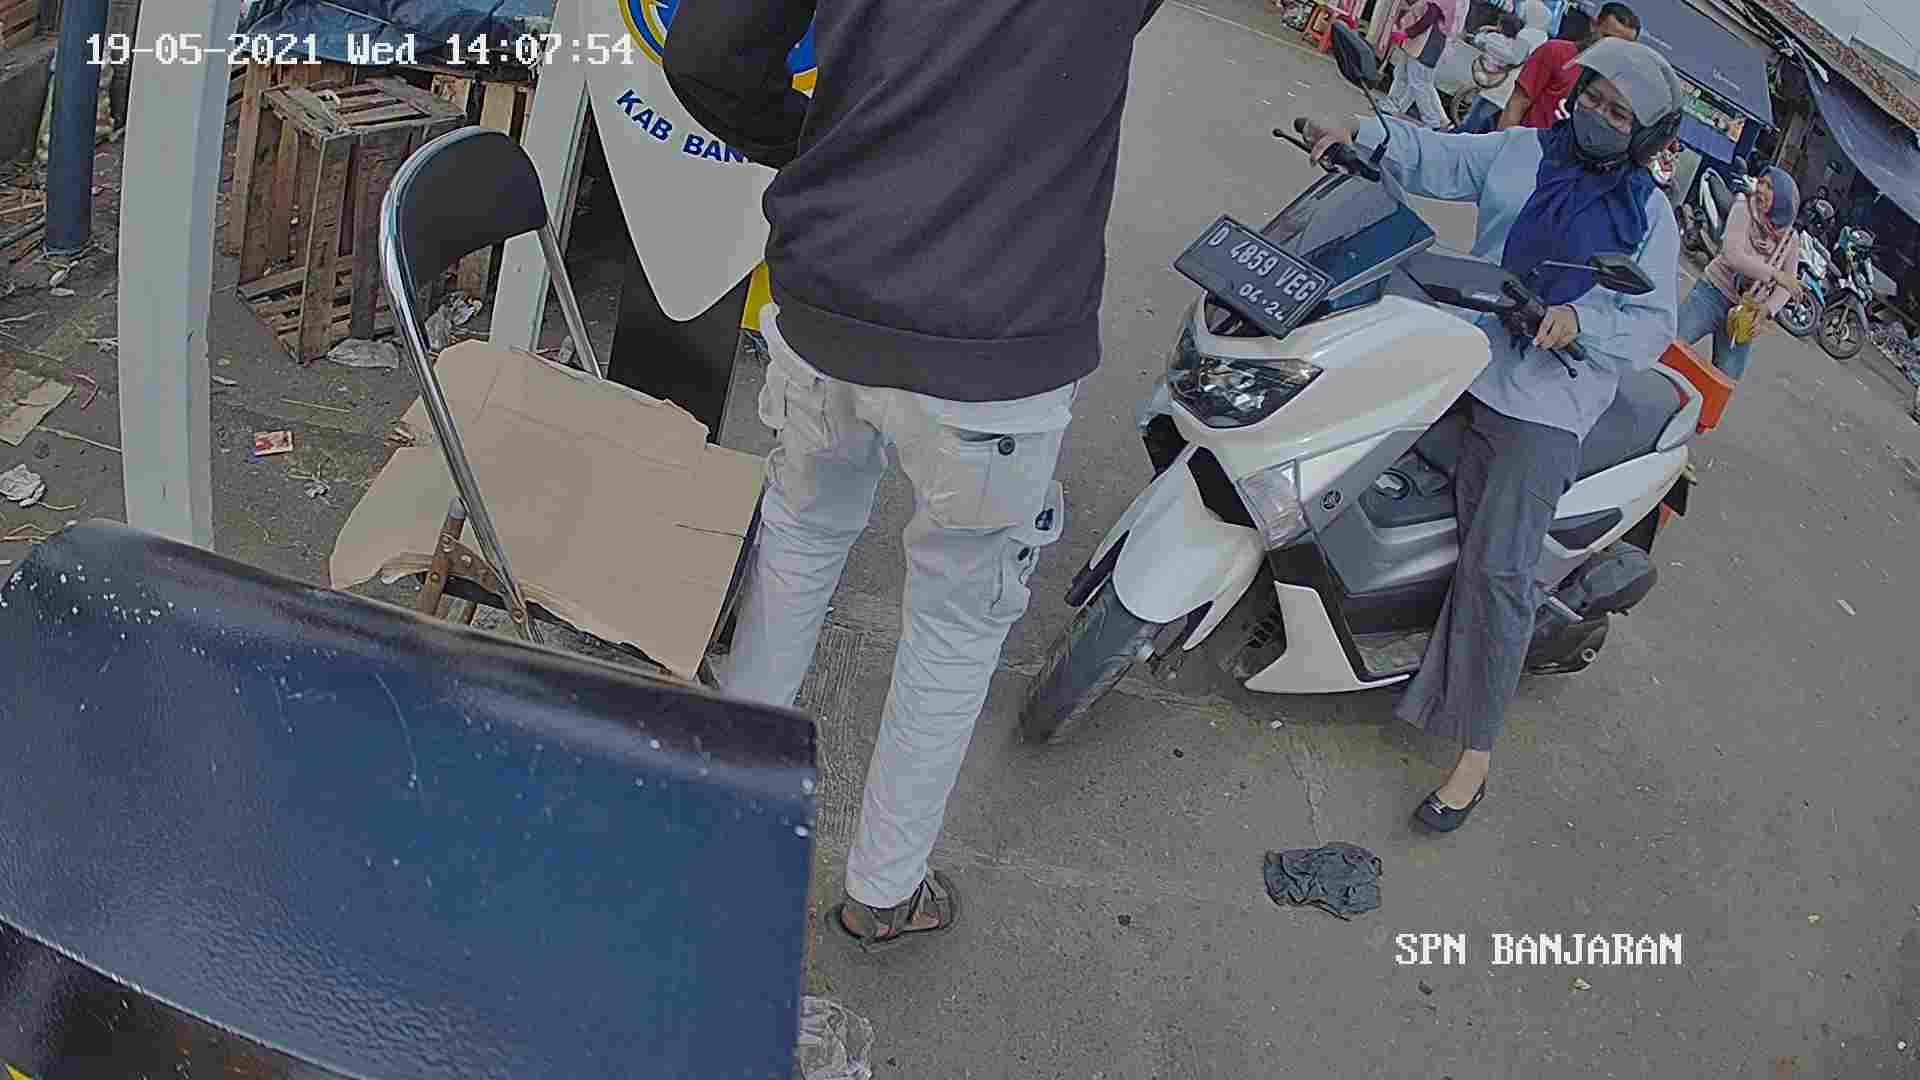motor: (1033, 152, 1708, 753)
